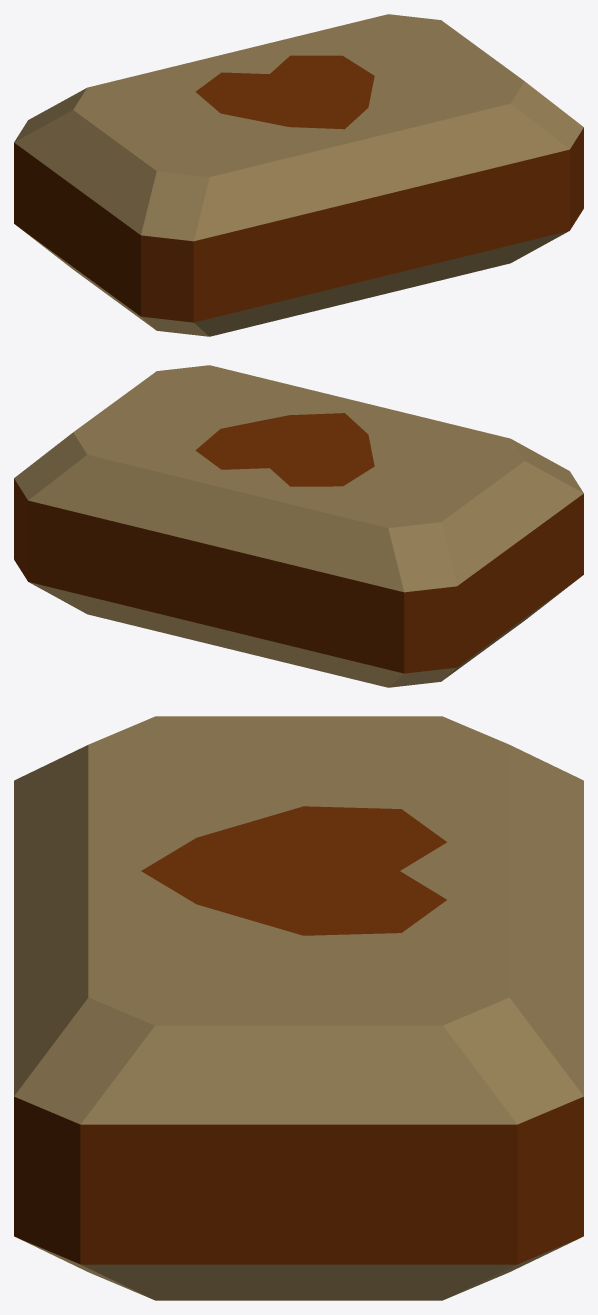
The model's file is LP_PostApoc_MedPack.fbx.
3 views of the same model, one above another, from view 1: azimuth 30°, elevation 25°; view 2: azimuth 150°, elevation 25°; view 3: azimuth 270°, elevation 25° (orthographic). The views are drawn at different scales.
Parts seen in each view (by area): view 1: MedPack; view 2: MedPack; view 3: MedPack.
Boxes of the visible parts, x1,y1,x2,y2 form: MedPack: (14, 14, 583, 336); MedPack: (14, 365, 583, 687); MedPack: (14, 716, 583, 1300).
Size of the model in its own units: 37.34 by 12.86 by 24.17.
